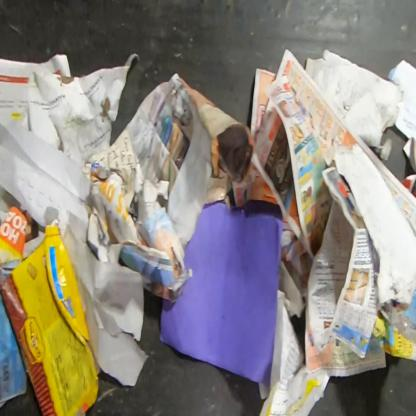cardboard: (0, 224, 101, 415), (332, 140, 415, 311)
